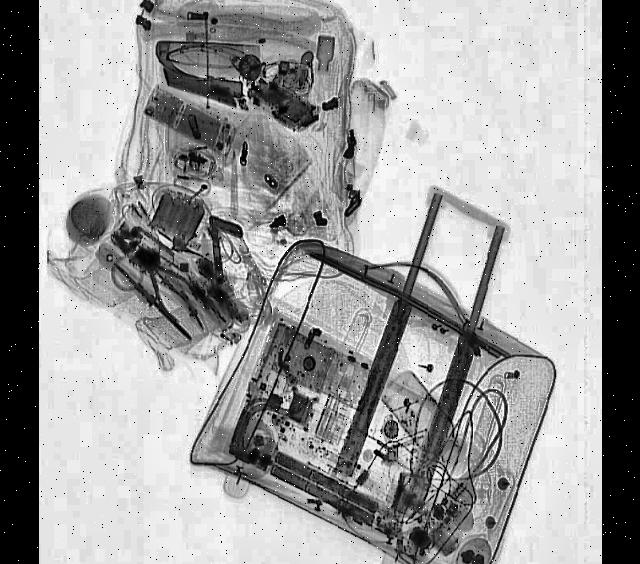Pliers: (120, 228, 198, 324)
